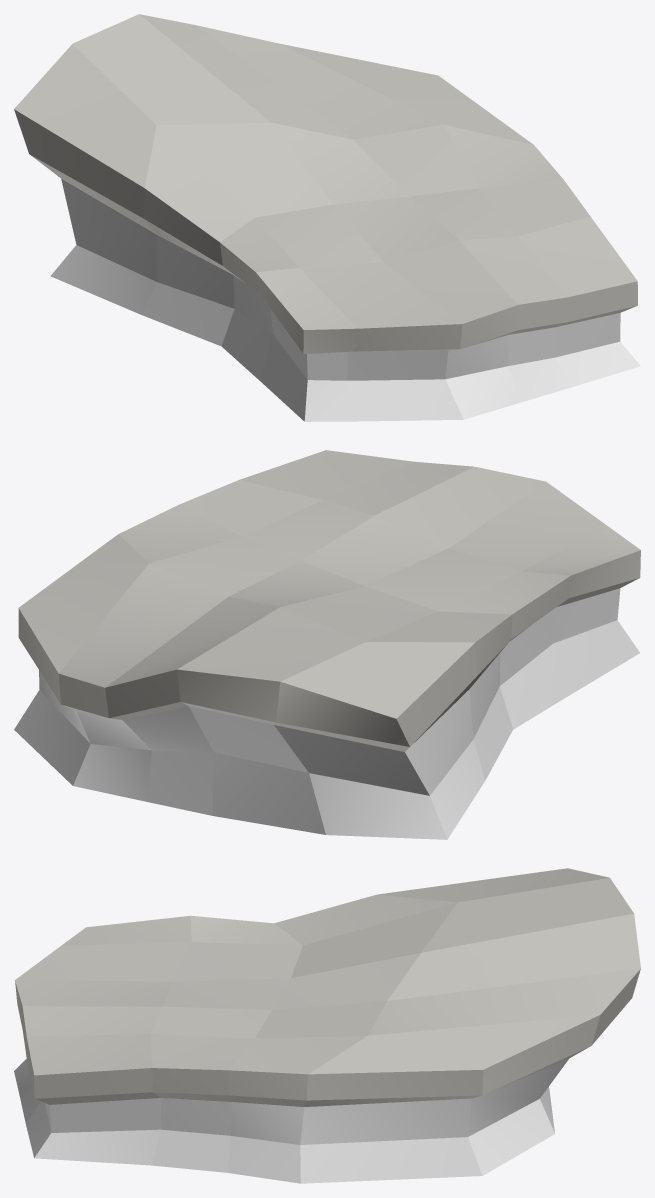
Rendered from christmasIslandSmall.dae.
3 renders of one model, top to bottom at view 1: azimuth 30°, elevation 25°; view 2: azimuth 150°, elevation 25°; view 3: azimuth 270°, elevation 25°, orthographic. The views are drawn at different scales.
Parts seen in each view (by area): view 1: christmasIslandSmall; view 2: christmasIslandSmall; view 3: christmasIslandSmall.
Part boxes in pixels (x1=…): christmasIslandSmall: x1=14, y1=14, x2=640, y2=421; christmasIslandSmall: x1=14, y1=450, x2=640, y2=839; christmasIslandSmall: x1=14, y1=868, x2=640, y2=1183.
Size of the model in its own units: 2.64 by 3.71 by 1.04.
2 materials, 1 textured.
